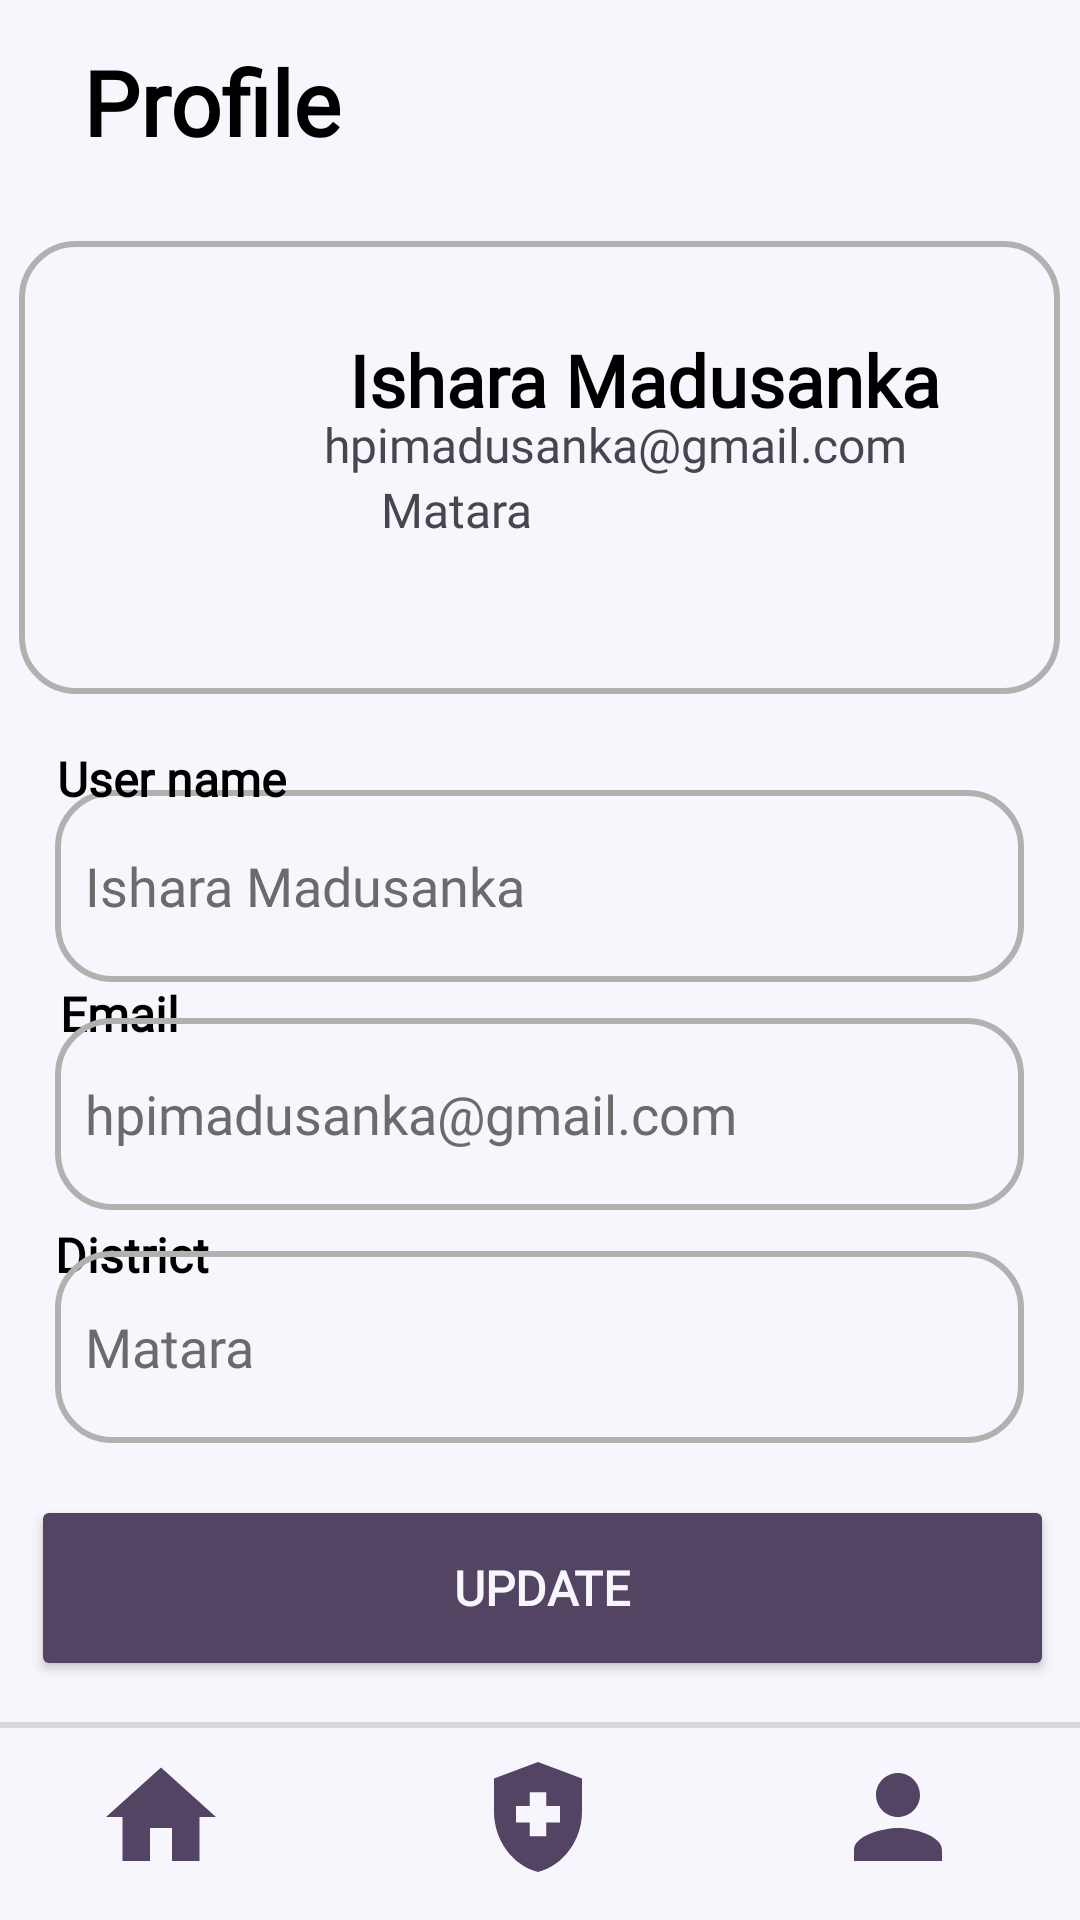

Screen size 1080x1920. Icon name, then its center in pixels as point (x, y):
home: point (161, 1814)
person: point (898, 1817)
vaccine: point (538, 1817)
